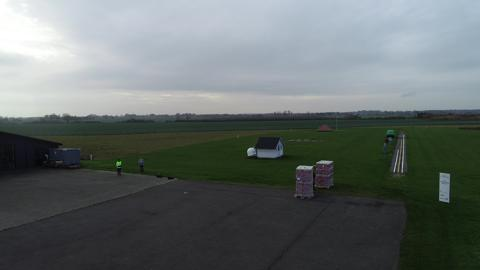RockwoolPallet: (314, 158, 336, 189)
